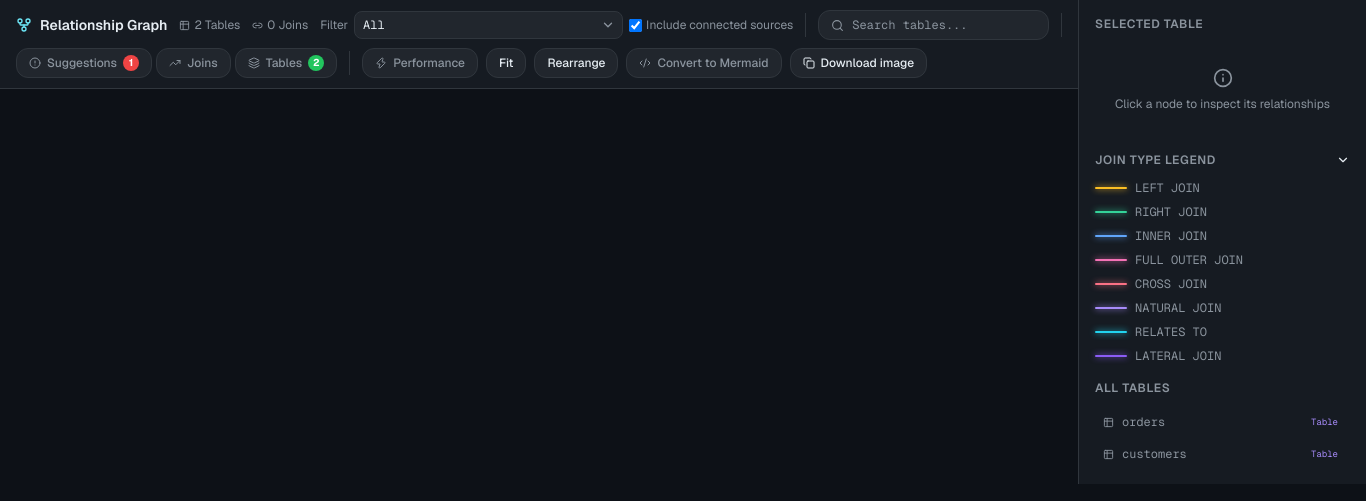
Scenario: relationship graph filtering and selection (019 A13, A15, A28) › A28: a filter matching nothing shows an empty filtered state, not an analysis failure
Click the checkbox labelled "Include connected sources" at point(636, 25), box [629,18,642,32]
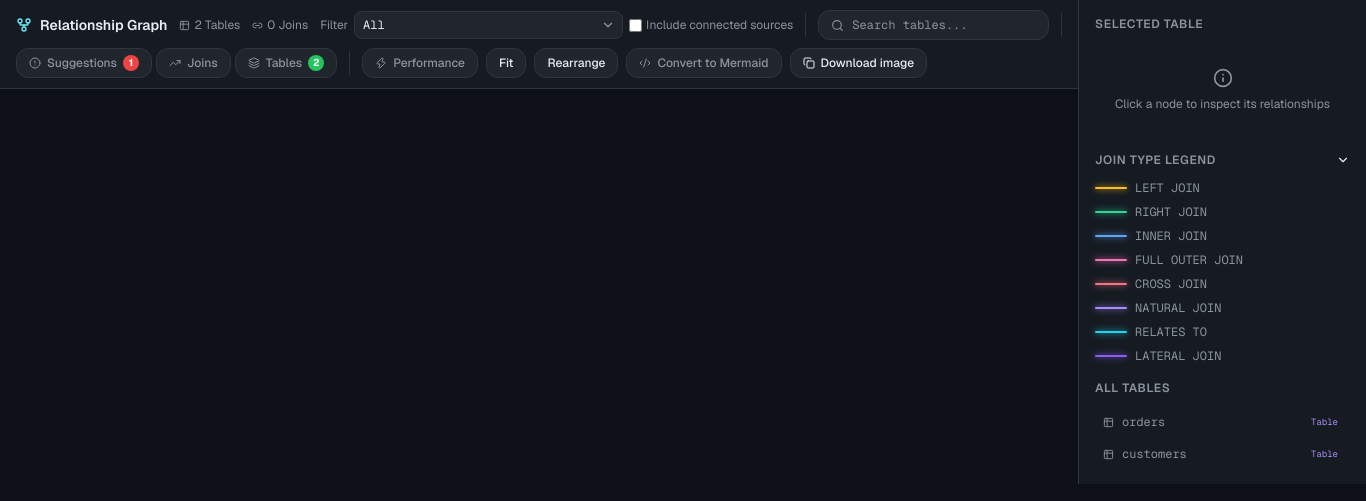
Select "Subqueries only" in the dropdown named "Filter" at point(489, 25), box [354,11,623,39]
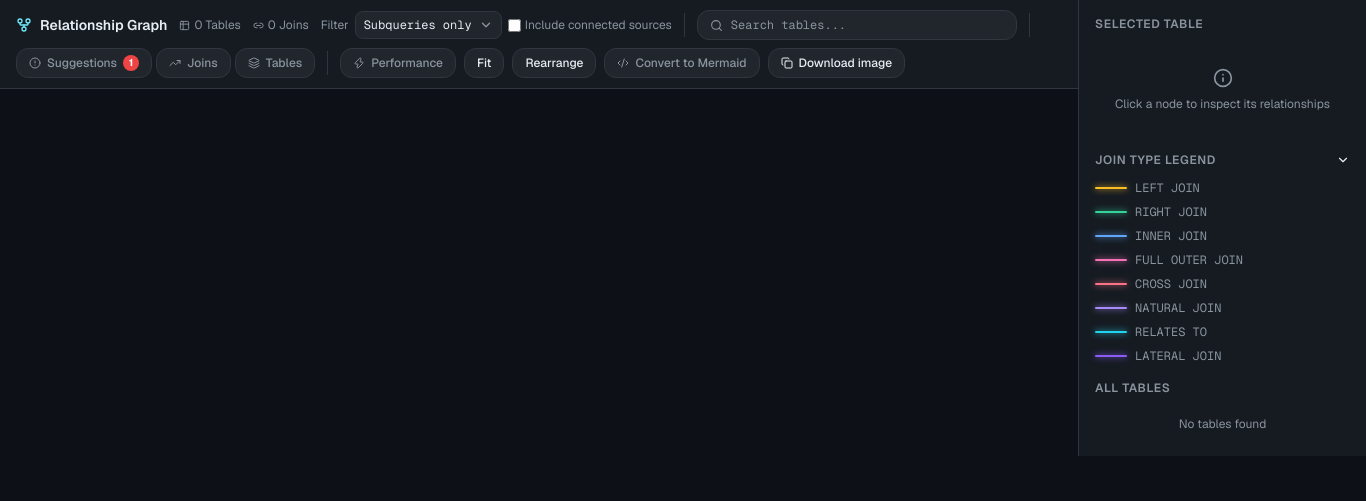
Check: the text "No tables found" is shown, box [1179,416,1266,432]
